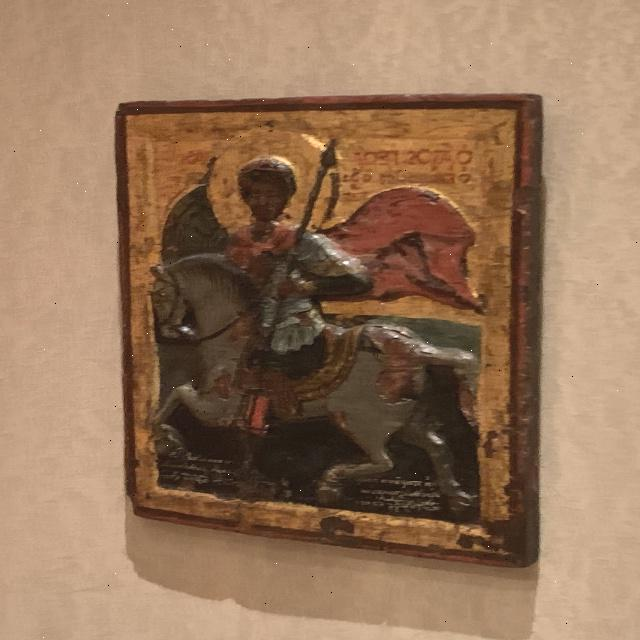horse: (152, 259, 452, 495)
spear: (242, 143, 347, 488)
st_george: (151, 129, 486, 513)
